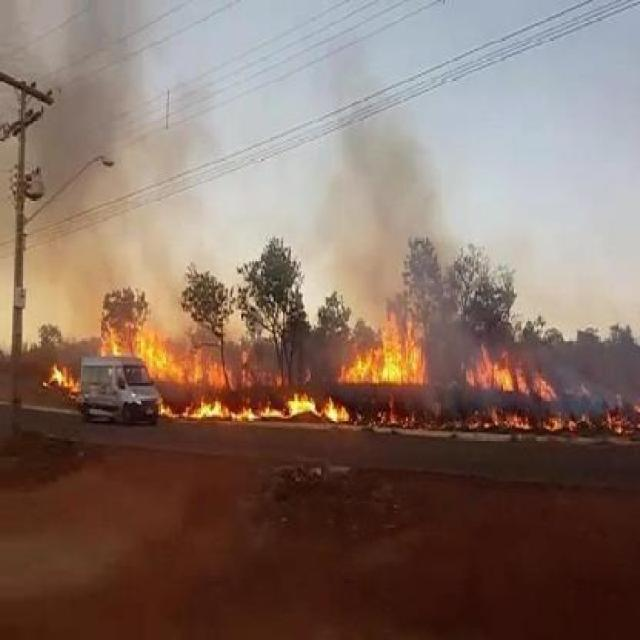Fire: (158, 397, 634, 431), (102, 322, 270, 380), (338, 312, 432, 386), (466, 332, 554, 392), (46, 366, 77, 399)
